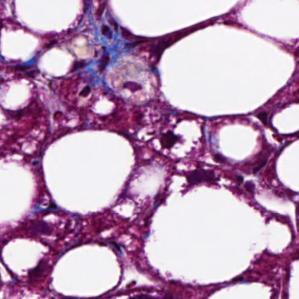inflammation: (133, 123, 187, 162)
